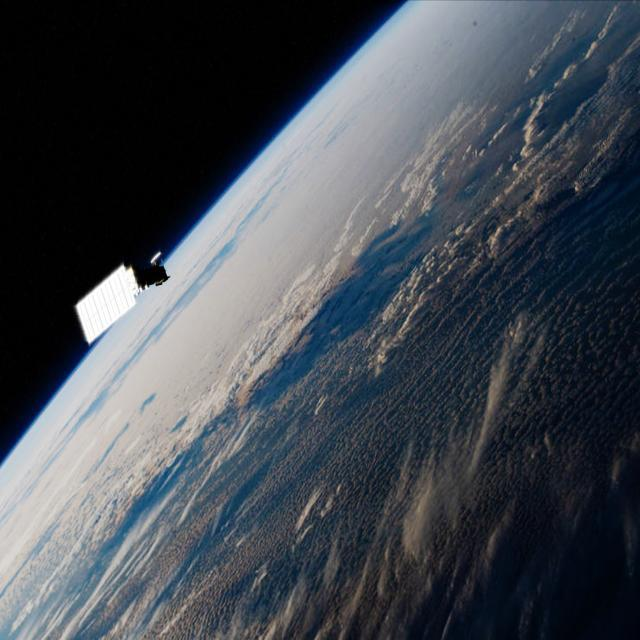satellite: (72, 235, 186, 351)
